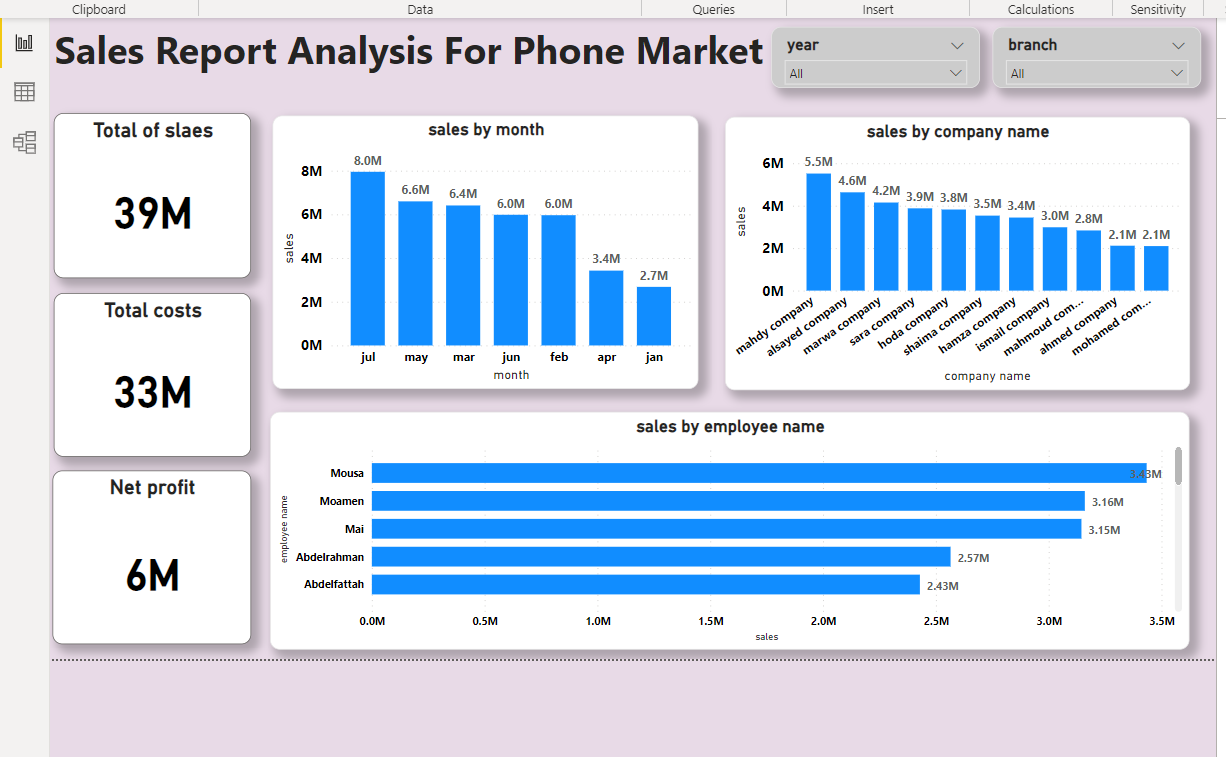

This screenshot's page, from the dashboard's own definition file:
{"tool":"powerbi","page":{"name":"Page 1","canvas":[1310,720],"ordinal":0},"visuals":[{"type":"textbox","box":[0,0,824.5,68.6],"z":0},{"type":"barChart","fields":{"Category":["ALL.employee name"],"Y":["ALL.sales"]},"box":[247.5,442.4,1032.8,266.8],"z":1000},{"type":"clusteredColumnChart","fields":{"Category":["ALL.month"],"Y":["ALL.sales"]},"box":[249.9,109.5,478.8,307.5],"z":2000},{"type":"clusteredColumnChart","fields":{"Y":["ALL.sales"],"Category":["ALL.company name"]},"box":[758.2,110.9,522.3,307.5],"z":3000},{"type":"card","title":"Total of slaes","fields":{"Values":["ALL.sales"]},"box":[4.2,106.7,221.8,185.3],"z":4000},{"type":"card","title":"Total costs","fields":{"Values":["ALL.COGS"]},"box":[4.2,308.9,221.8,183.9],"z":5000},{"type":"card","title":"Net profit","fields":{"Values":["ALL.Net sales"]},"box":[2.8,508.3,223.2,195.2],"z":6000},{"type":"slicer","fields":{"Values":["ALL.year"]},"box":[810.2,9.8,234.5,68.8],"z":7000},{"type":"slicer","fields":{"Values":["ALL.branch"]},"box":[1058.7,9.8,234.5,68.8],"z":8000}]}

Visuals, with their boxes on the page's 1310x720 design canvas (x1, y1, x2, y2). These are canvas units, not pixel positions in the 1226x757 screenshot, which may show the page scaled, cropped or inside an application window:
textbox: 0,0,824,69
barChart - ALL.employee name x ALL.sales: 248,442,1280,709
clusteredColumnChart - ALL.month x ALL.sales: 250,110,729,417
clusteredColumnChart - ALL.sales x ALL.company name: 758,111,1280,418
"Total of slaes" card: 4,107,226,292
"Total costs" card: 4,309,226,493
"Net profit" card: 3,508,226,704
slicer - ALL.year: 810,10,1045,79
slicer - ALL.branch: 1059,10,1293,79
